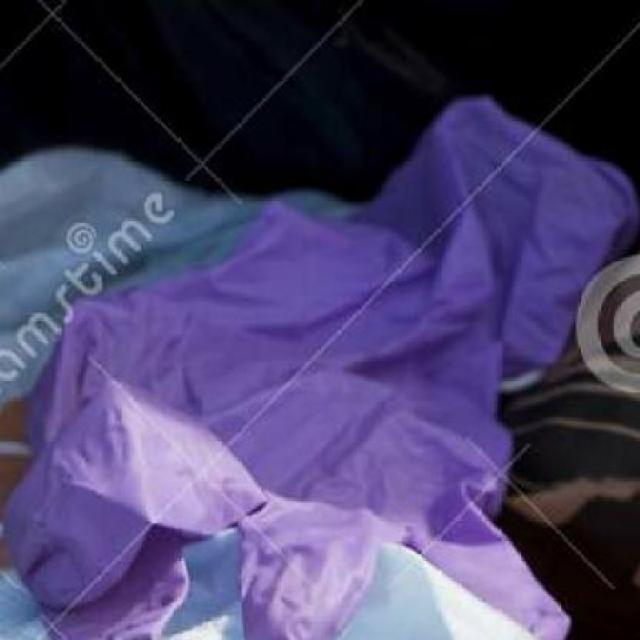glove_hand: (8, 94, 630, 632)
